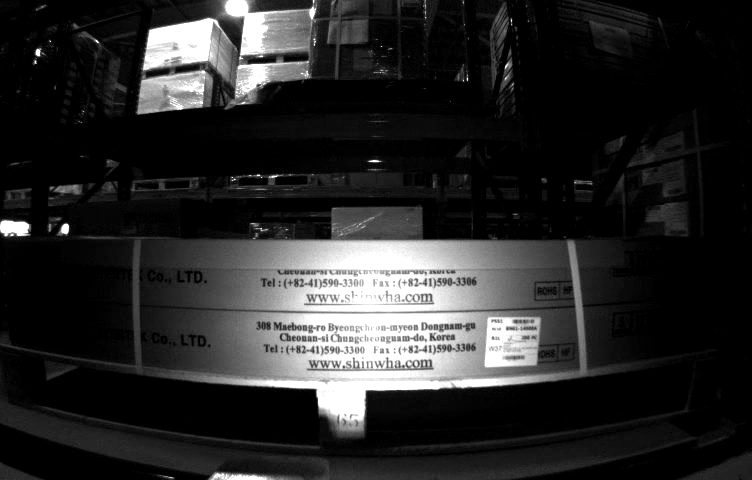True Barcode: (484, 315, 541, 370)
